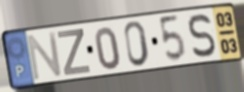0: (93, 24, 122, 72), (123, 20, 151, 68)
5: (156, 12, 187, 65)
N: (26, 30, 65, 83)
S: (187, 12, 218, 60)
Z: (56, 28, 93, 78)
